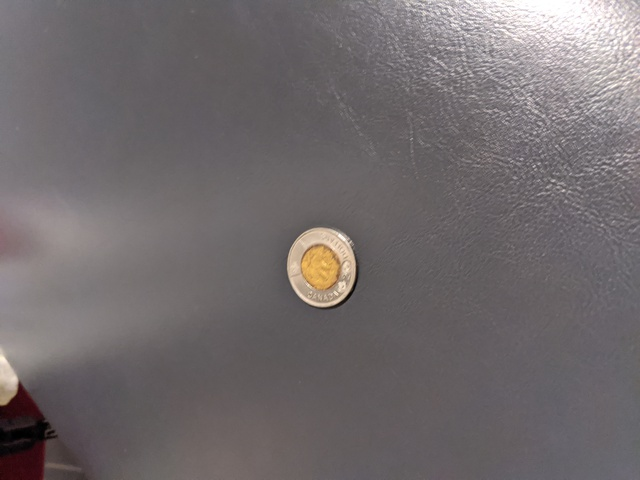twonie: (281, 225, 368, 318)
